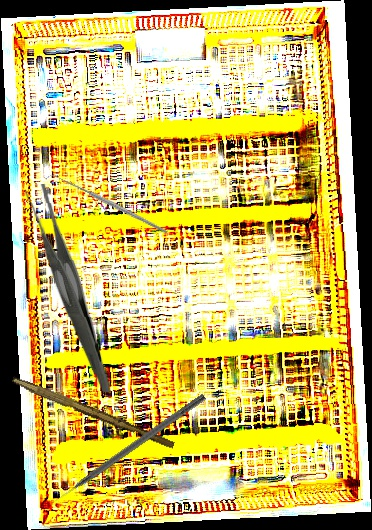Dressing Forceps: (25, 183, 110, 394)
Hook Surgical: (47, 391, 207, 509), (45, 137, 169, 273)
Scalpel Handle: (9, 376, 177, 450)
